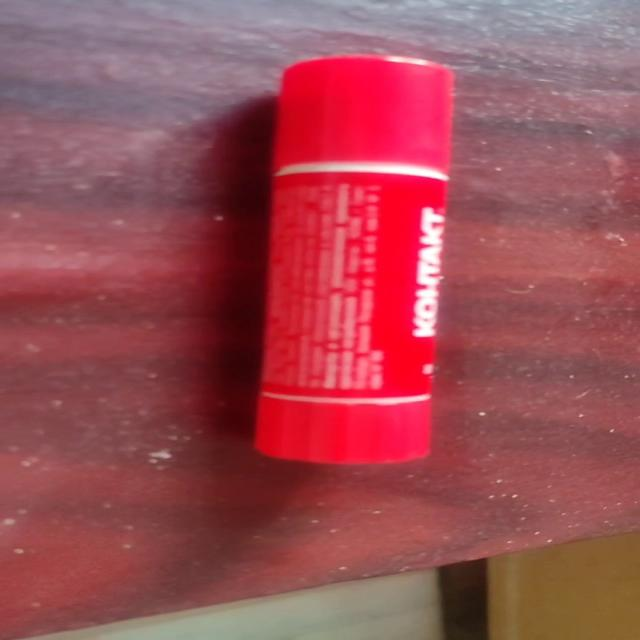glue: (252, 53, 455, 464)
